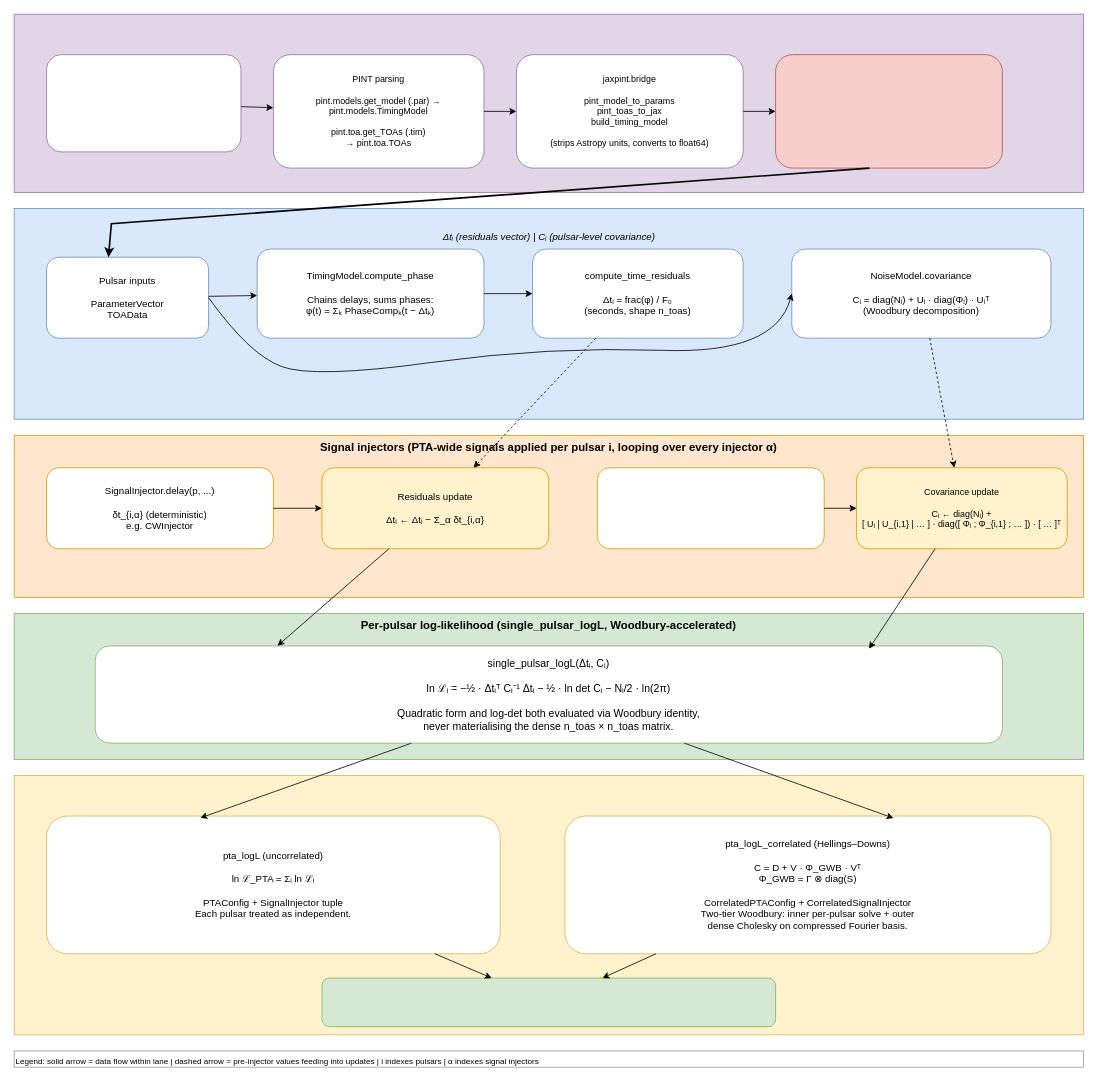
The diagram is 1098 pixels wide and 1081 high, and some of its shapes have lost their labels. Each missing label, with the box of its shape:
Input & bridge (once per pulsar, then reused for every likelihood evaluation): (13, 13, 1083, 192)
JAX-native inputs • ParameterVector • TOAData • TimingModel • NoiseModel: (775, 54, 1002, 168)
ln ℒ_PTA : scalar jax.Array (differentiable, JIT-compatible): (321, 977, 776, 1027)
Per-pulsar forward model (one evaluation per pulsar i): (13, 208, 1083, 419)
PTA log-likelihood (aggregate per-pulsar log-likelihoods across all N pulsars): (13, 775, 1083, 1035)
Raw files (per pulsar) • .par (timing-model parameters) • .tim (TOAs + flags): (46, 54, 241, 152)
SignalInjector.covariance(p, ...) (U_α, Φ_α) (stochastic) e.g. CURNInjector: (597, 467, 824, 549)
